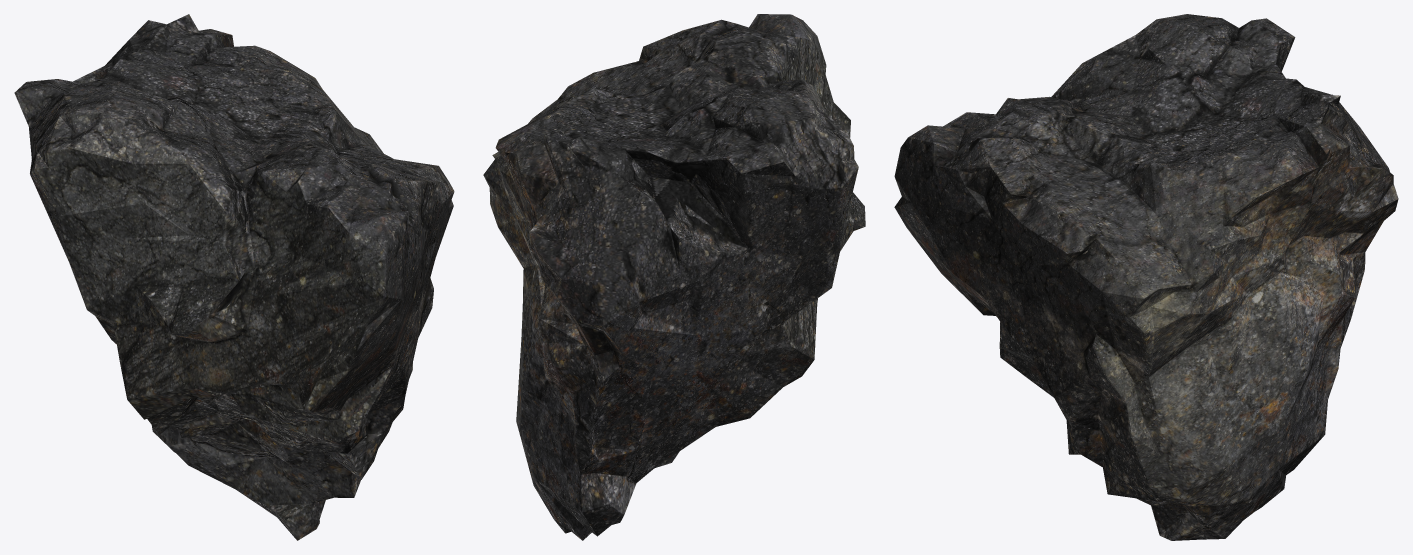
Rendered from LON94102-37.fbx.
The picture shows the model from 3 angles, left to right: view 1: azimuth 30°, elevation 25°; view 2: azimuth 150°, elevation 25°; view 3: azimuth 270°, elevation 25°; orthographic projection. The views are drawn at different scales.
Parts seen in each view (by area): view 1: LON94102-37; view 2: LON94102-37; view 3: LON94102-37.
Boxes of the visible parts, bbox=[...] form: LON94102-37: bbox=[14, 14, 454, 540]; LON94102-37: bbox=[483, 14, 865, 540]; LON94102-37: bbox=[894, 14, 1398, 540].
Size of the model in its own units: 43.33 by 50.71 by 53.2.
